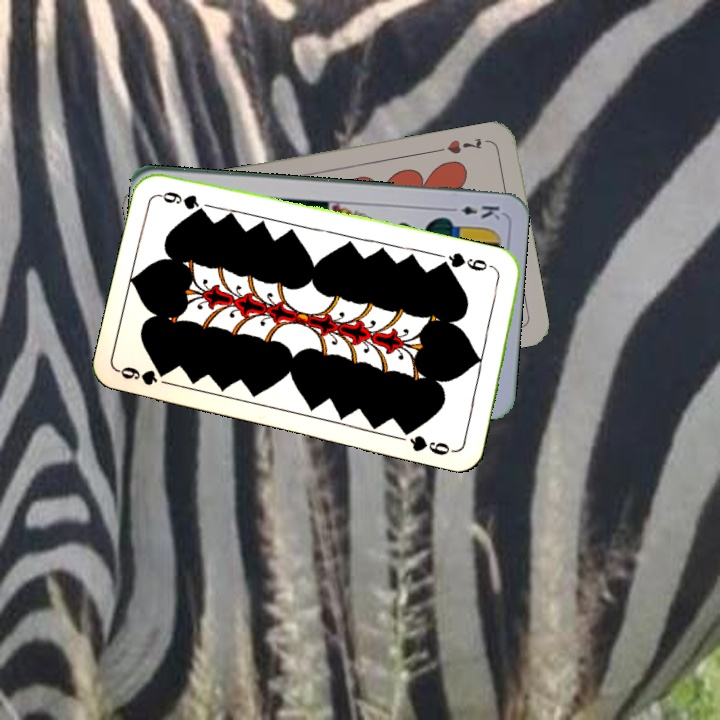EK: (444, 202, 503, 223)
G9: (439, 248, 499, 274), (116, 362, 174, 388)
H7: (432, 134, 485, 157)
